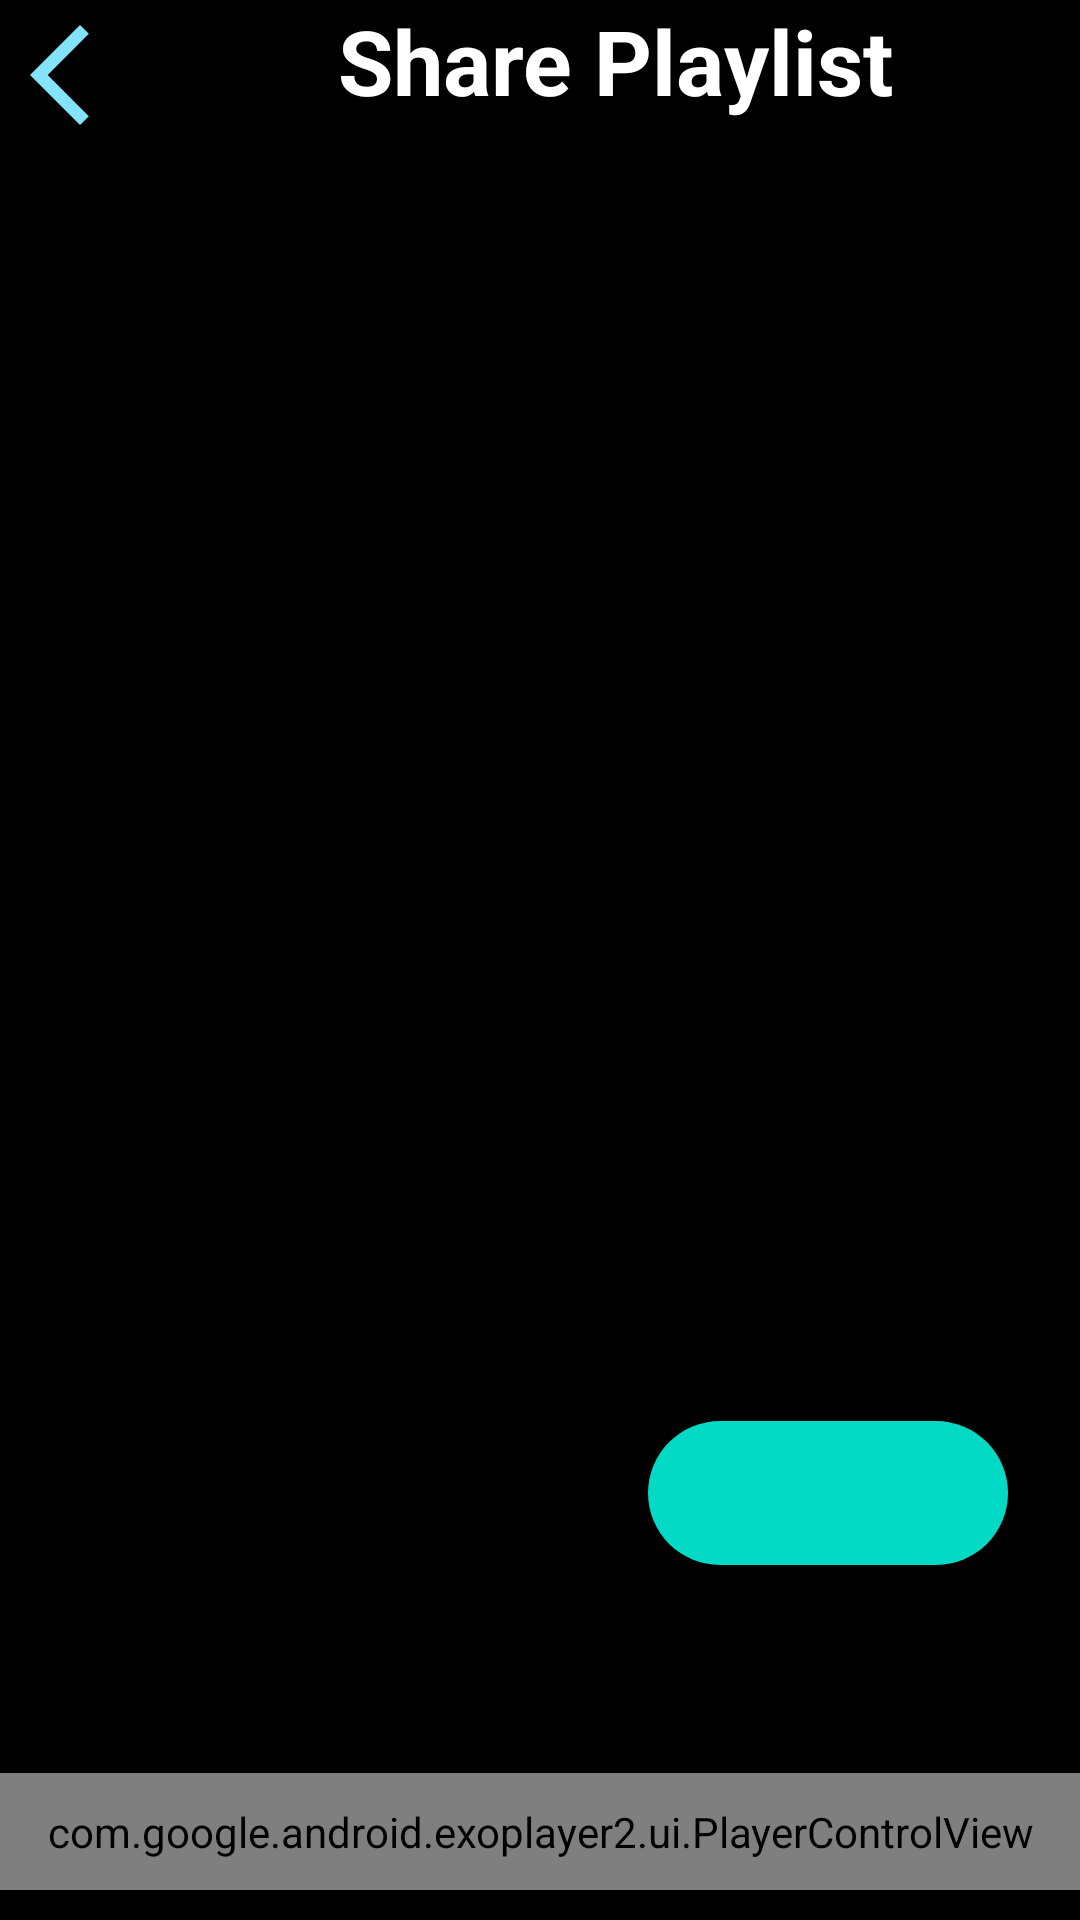

Where icons sit on this 1080x1920 app screen, as (x1, y1, x2, y2):
arrow back: (30, 25, 89, 125)
